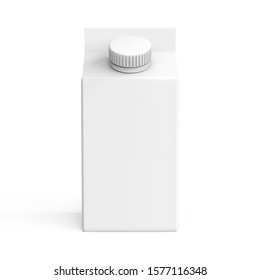carton: (69, 12, 194, 247)
